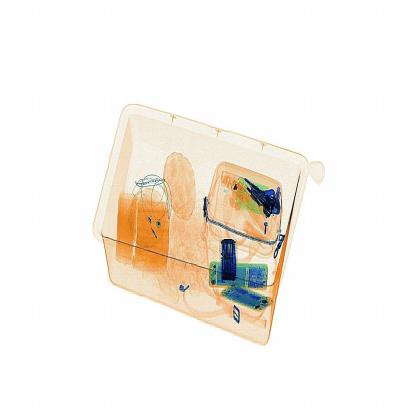scissors: (215, 232, 245, 286)
